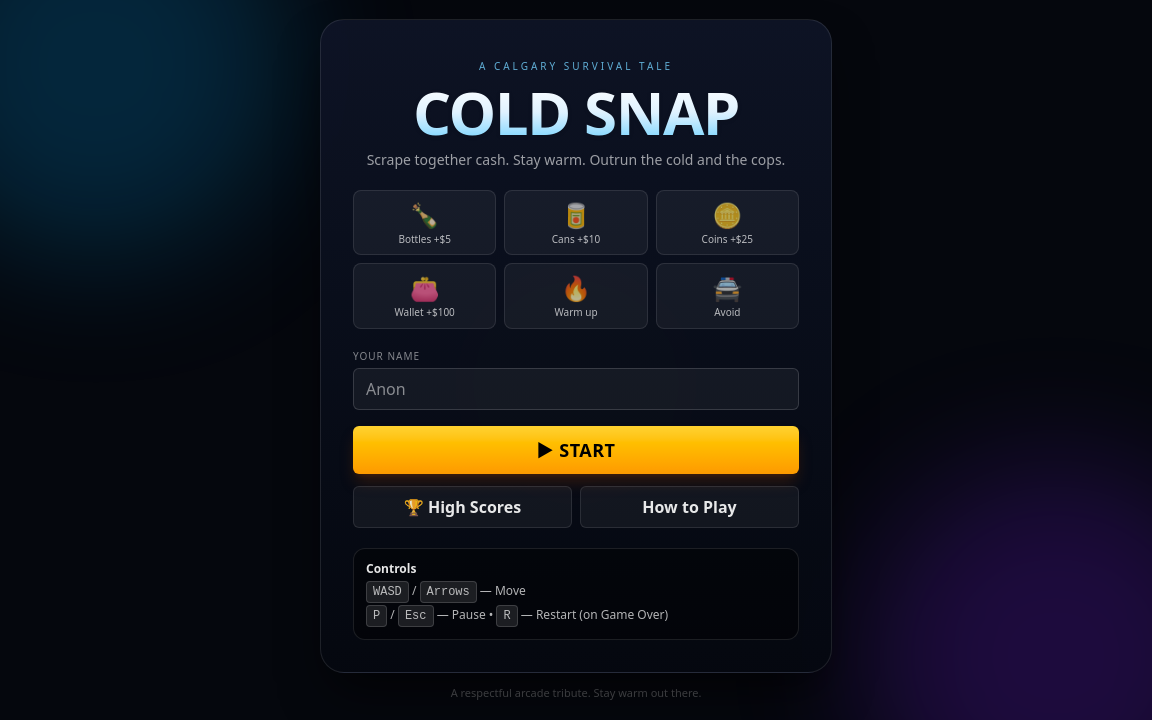
Test: App › can view high scores
The width and height of the screenshot is (1152, 720).
Click the button "🏆 High Scores" at [462, 507], box [353,486,572,528]
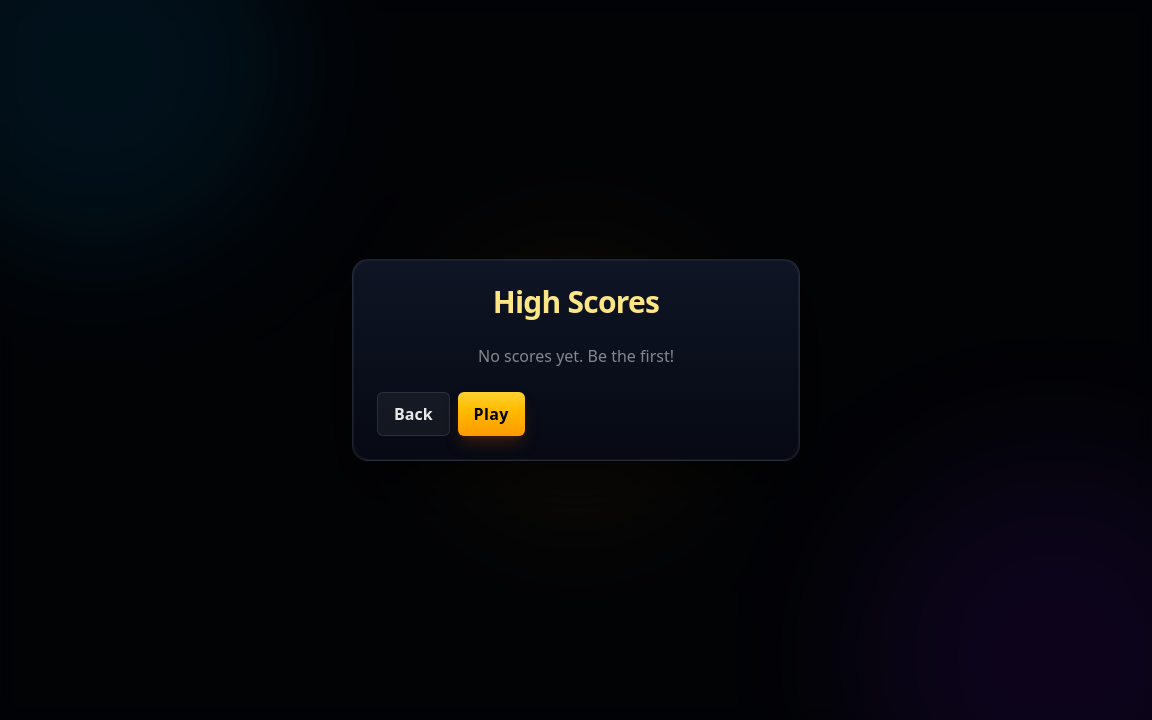
Check: the button "Back" is shown, box [377,392,450,436]
